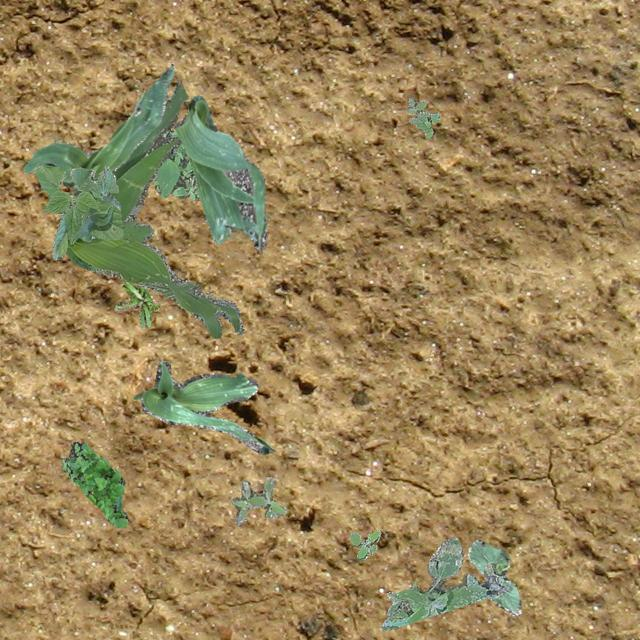crop: (23, 63, 174, 208), (172, 94, 266, 250), (132, 358, 274, 454), (34, 164, 122, 258), (466, 540, 520, 616)
weed: (64, 80, 242, 338), (381, 536, 512, 630), (61, 442, 128, 526), (152, 128, 200, 198), (230, 476, 284, 524), (114, 280, 158, 328), (404, 96, 438, 136), (348, 528, 379, 560)
